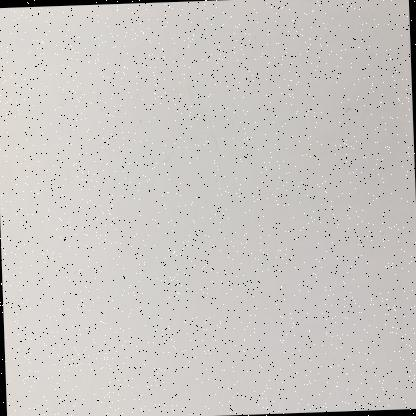Nocrack: (5, 7, 407, 415)
